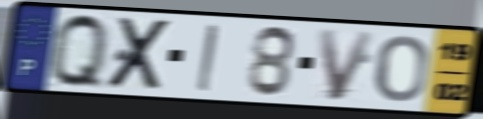8: (244, 24, 299, 99)
I: (194, 22, 220, 94)
O: (374, 33, 430, 104)
Q: (49, 10, 110, 93)
V: (316, 27, 379, 103)
X: (103, 16, 176, 91)
